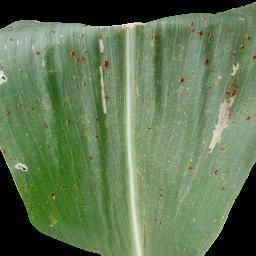Corn_Common_Rust: (1, 15, 113, 128), (142, 7, 256, 59), (22, 175, 87, 231), (169, 58, 250, 102), (204, 105, 256, 153), (0, 149, 34, 173), (150, 183, 169, 225), (86, 129, 107, 166), (211, 166, 235, 193), (140, 119, 158, 138), (182, 161, 201, 176), (135, 82, 143, 99)
